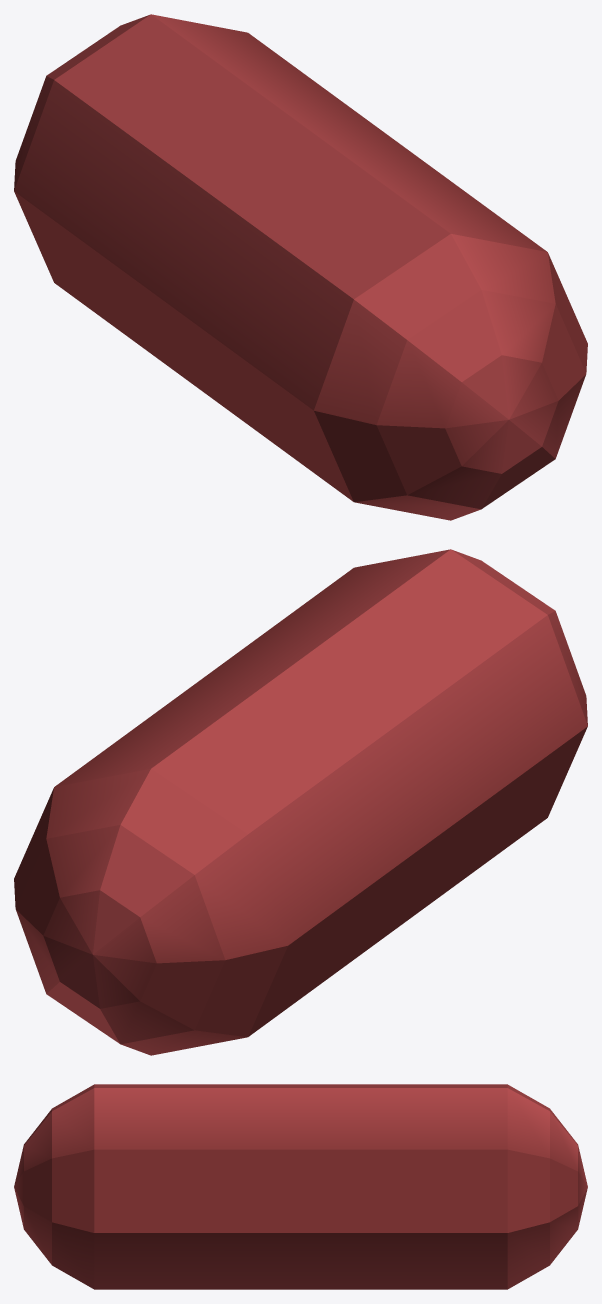
The model's file is HerbertBaseVacuumTube.fbx.
The picture shows the model from 3 angles, top to bottom: view 1: azimuth 30°, elevation 25°; view 2: azimuth 150°, elevation 25°; view 3: azimuth 270°, elevation 25°; orthographic projection. The views are drawn at different scales.
Visible parts, largest first — view 1: HerbertBaseVacuumTube; view 2: HerbertBaseVacuumTube; view 3: HerbertBaseVacuumTube.
Boxes of the visible parts, x1,y1,x2,y2 form: HerbertBaseVacuumTube: [14, 14, 587, 520]; HerbertBaseVacuumTube: [14, 549, 587, 1055]; HerbertBaseVacuumTube: [14, 1084, 587, 1289].
Bounding box in the file's own units: 50.99 × 50.99 × 134.
